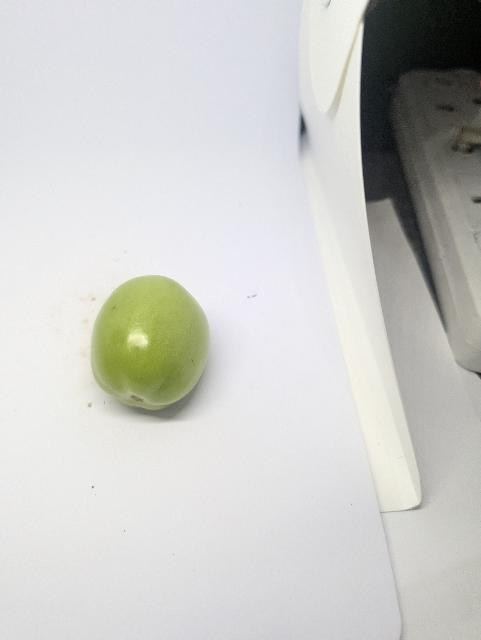green: (66, 253, 242, 436)
